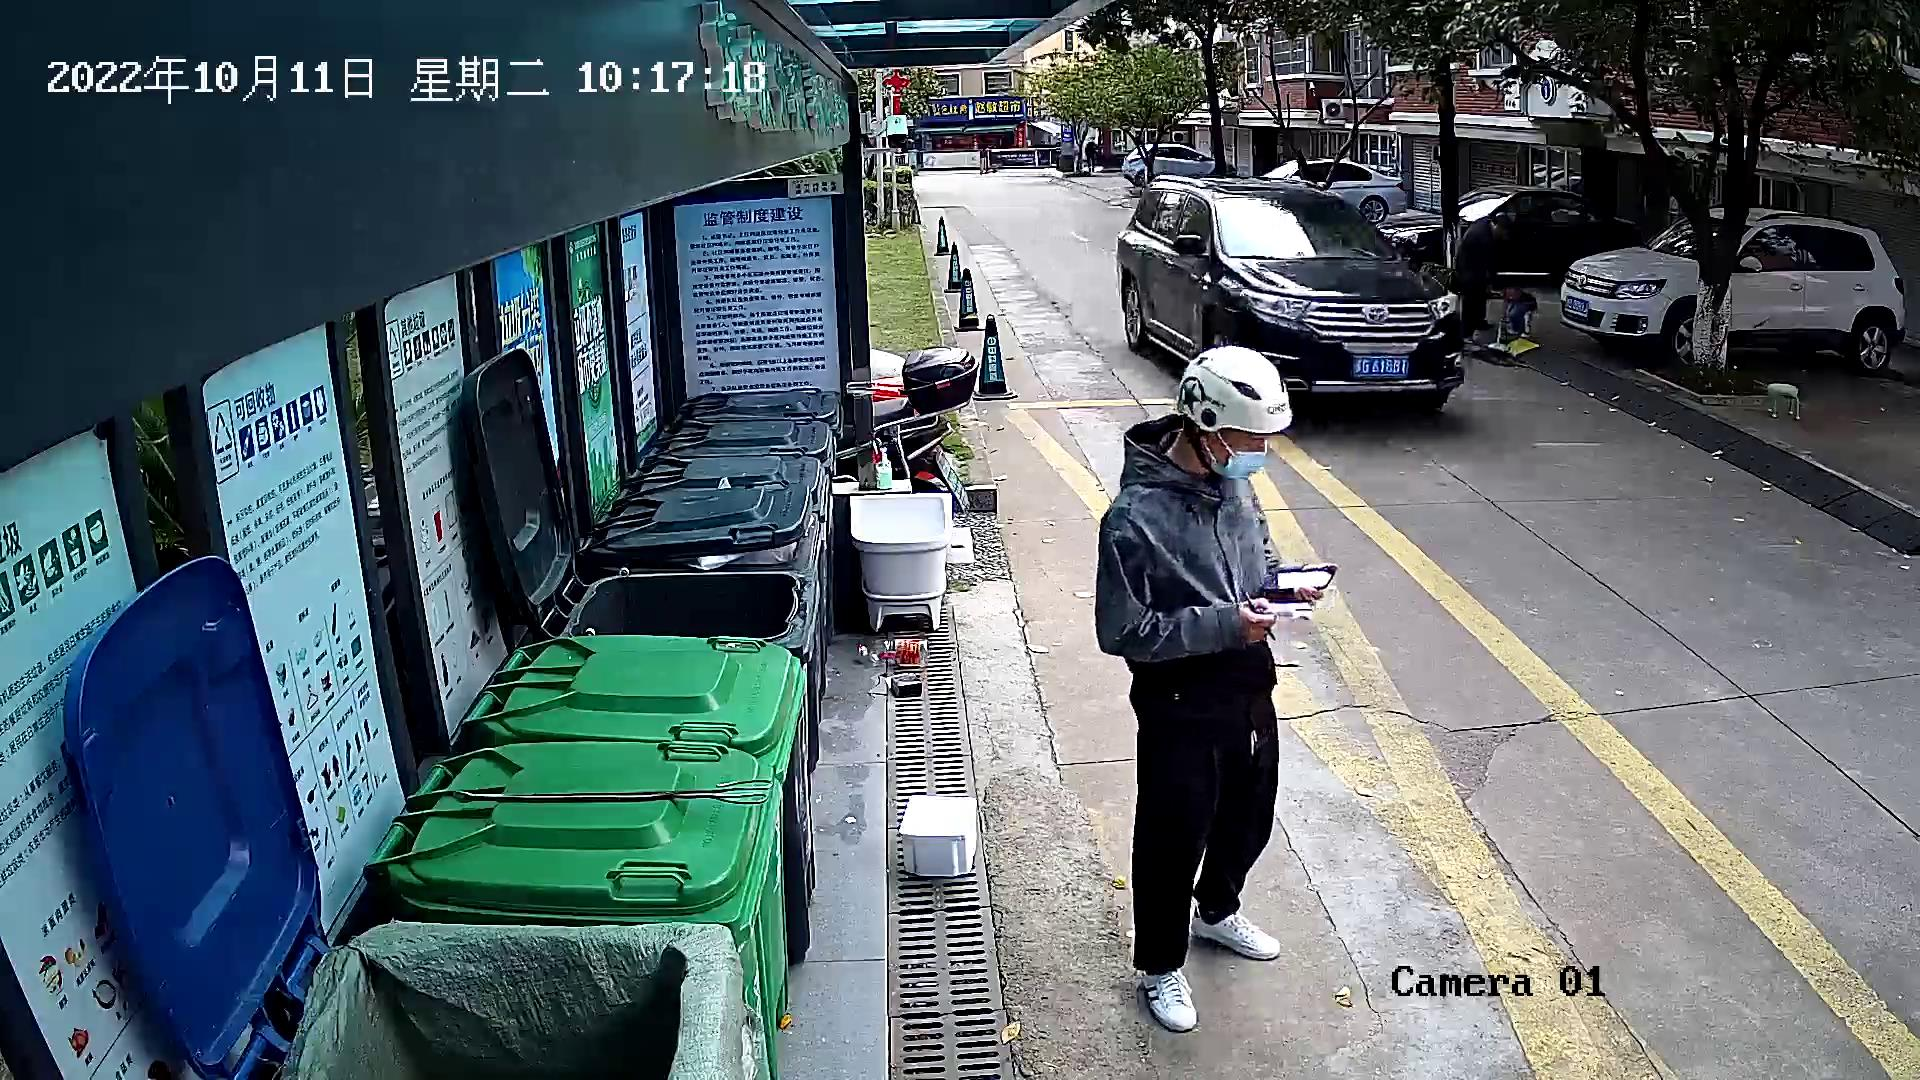paomozhipin: (891, 788, 997, 883)
person: (1083, 340, 1343, 1048)
suliaozhipin: (849, 630, 931, 672)
zhizhipin: (868, 664, 928, 706)
